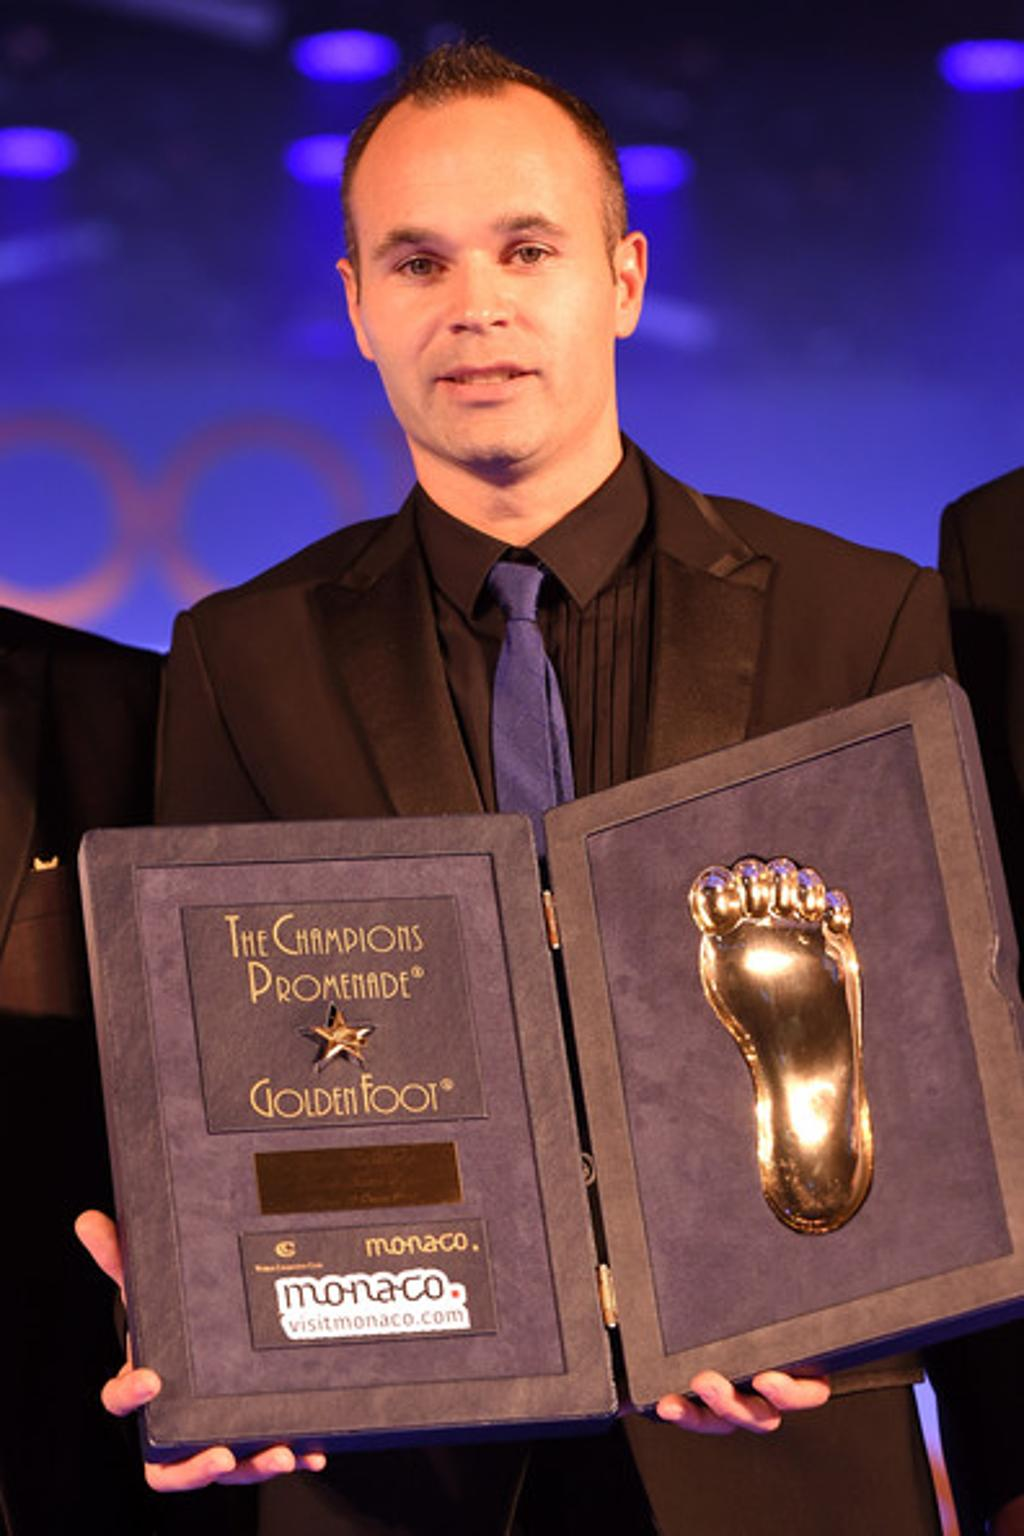face: (351, 81, 621, 459)
